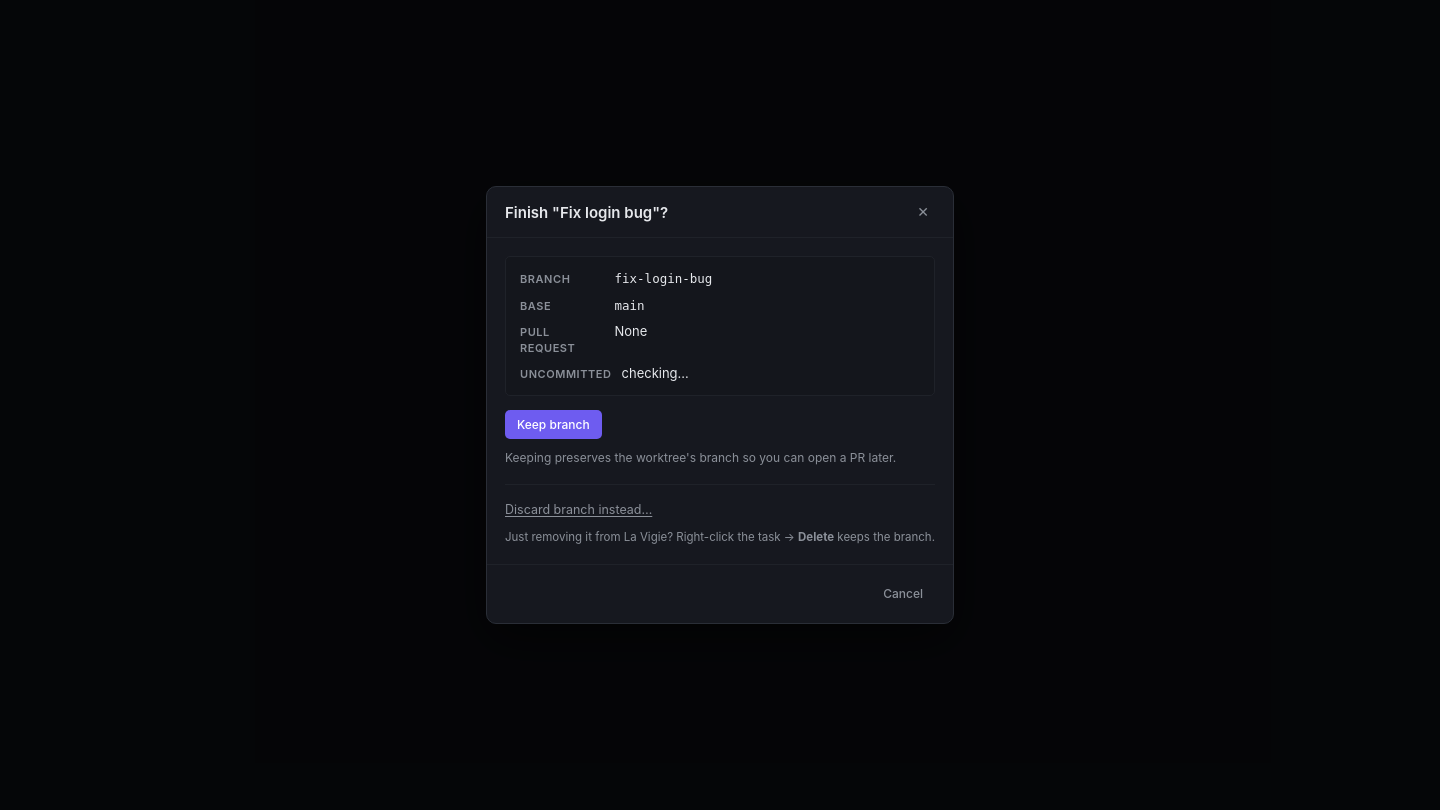
Scenario: FinishTaskModal — Keep / Merge / dismiss › a finish_task rejection shows an error and keeps the selection
Click the button "Keep branch" at (553, 424), box x1=505 y1=410 x2=602 y2=439
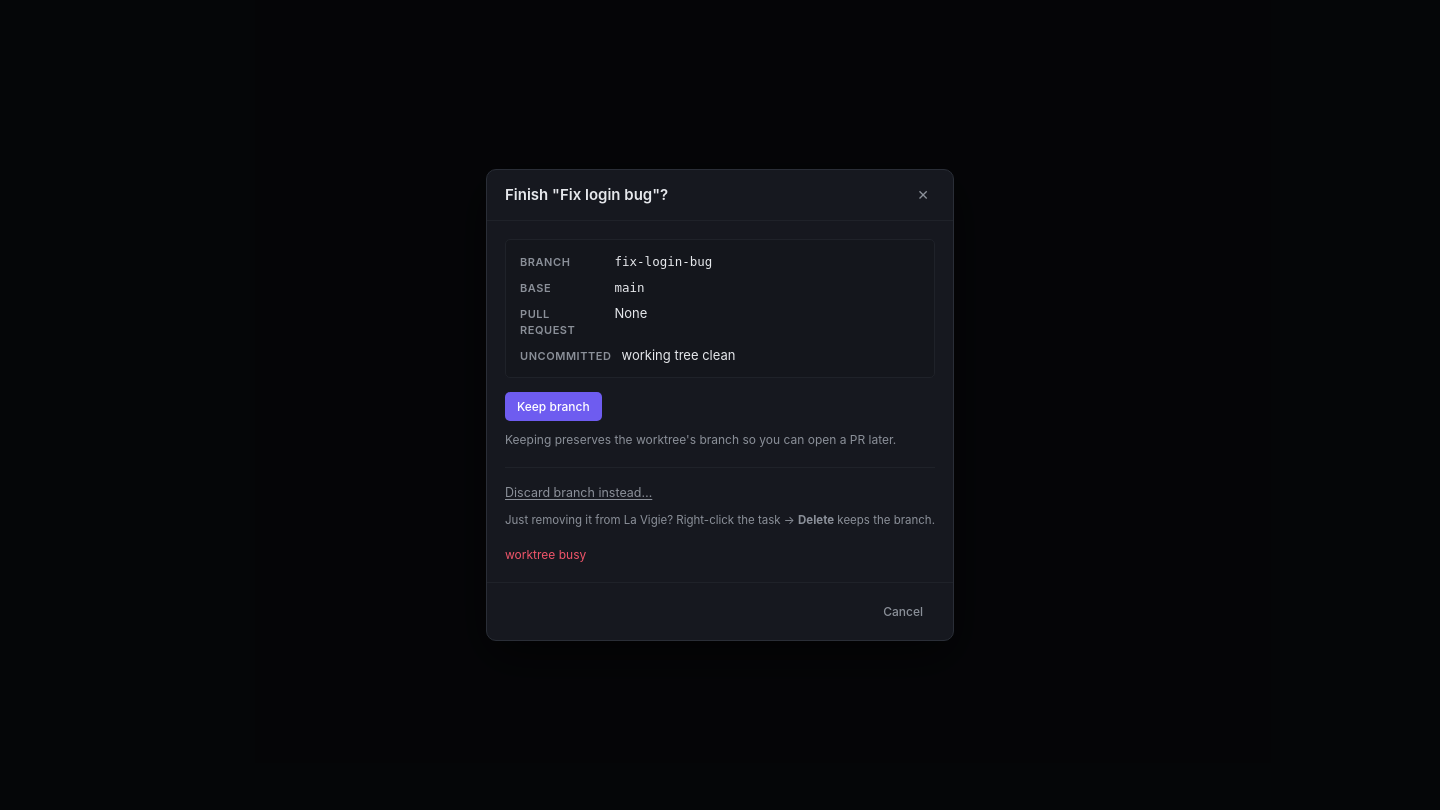
Expected: the message reads "worktree busy", x1=505 y1=547 x2=586 y2=562
